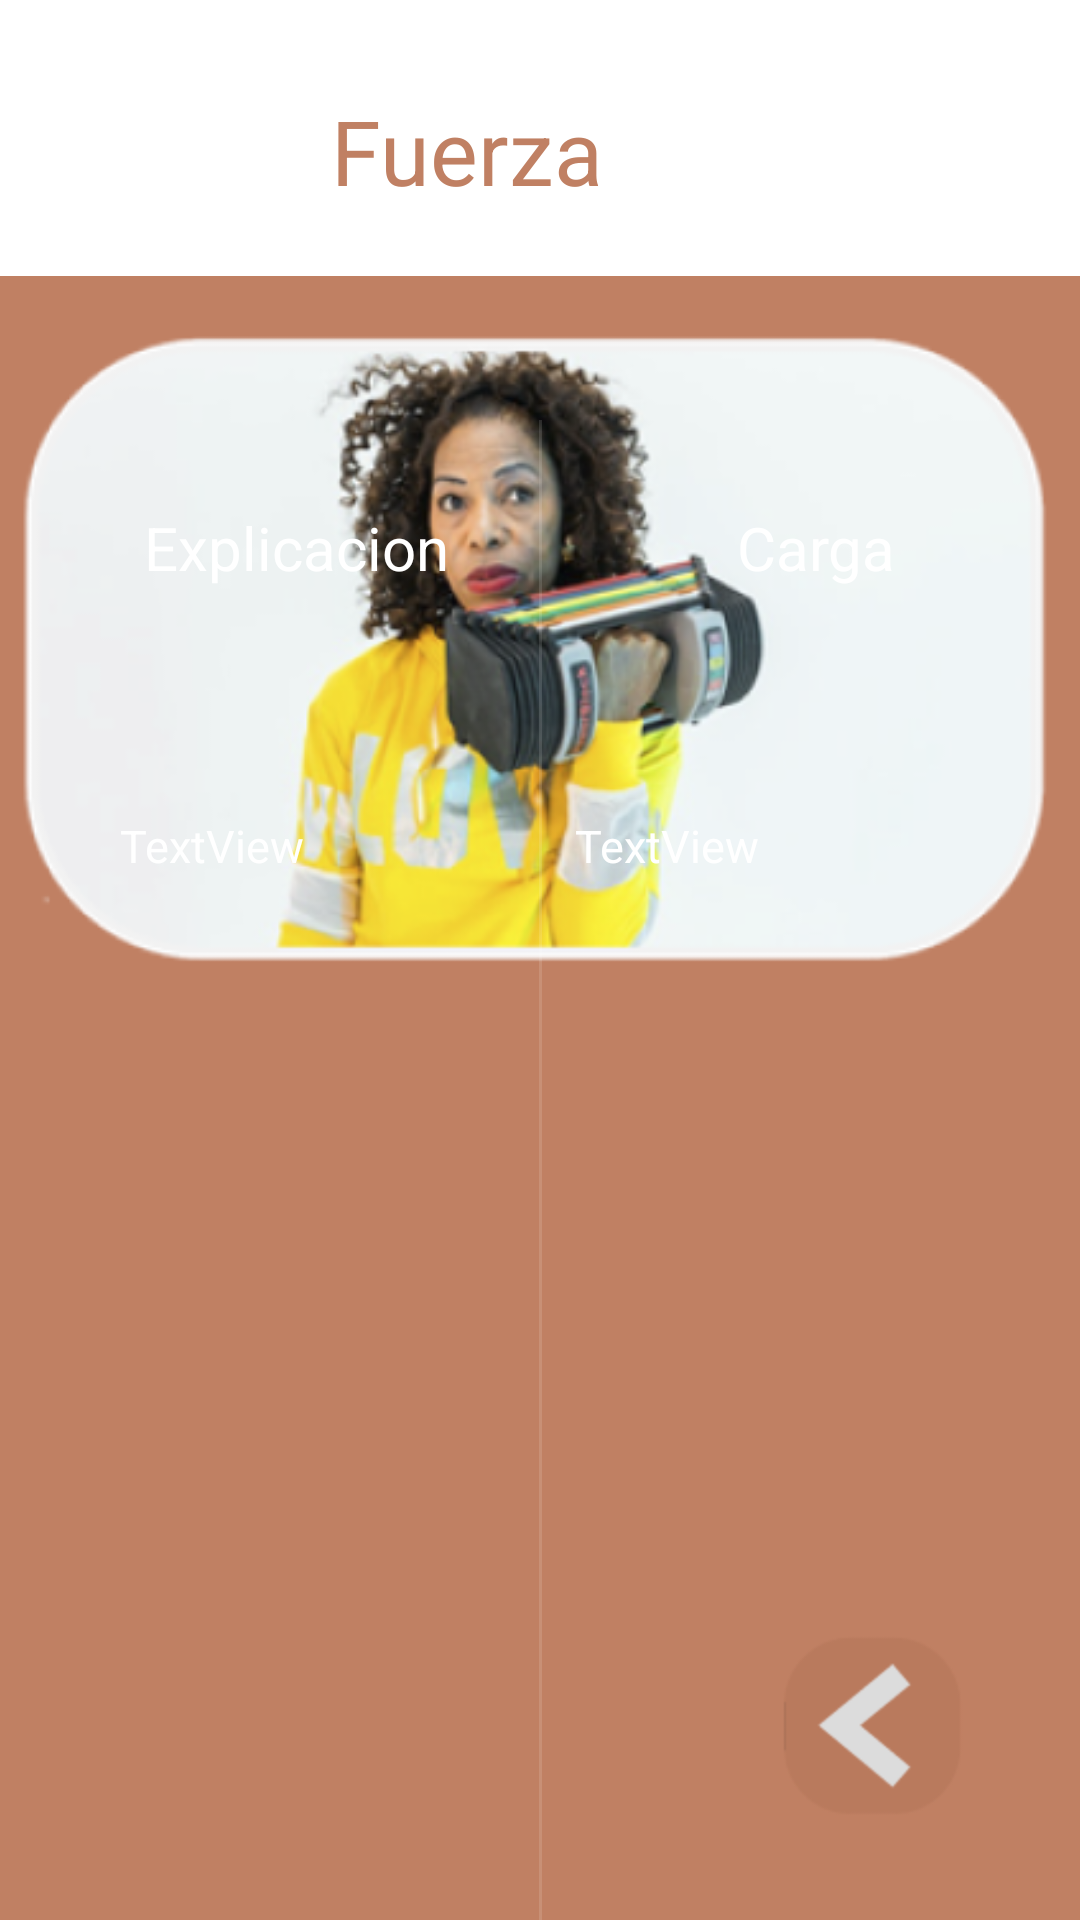

Named icons in this screenshot (1080w x 1920h) and their bounding boxes, box(x1, y1, x2, y2):
regresar: box(819, 1664, 910, 1787)
